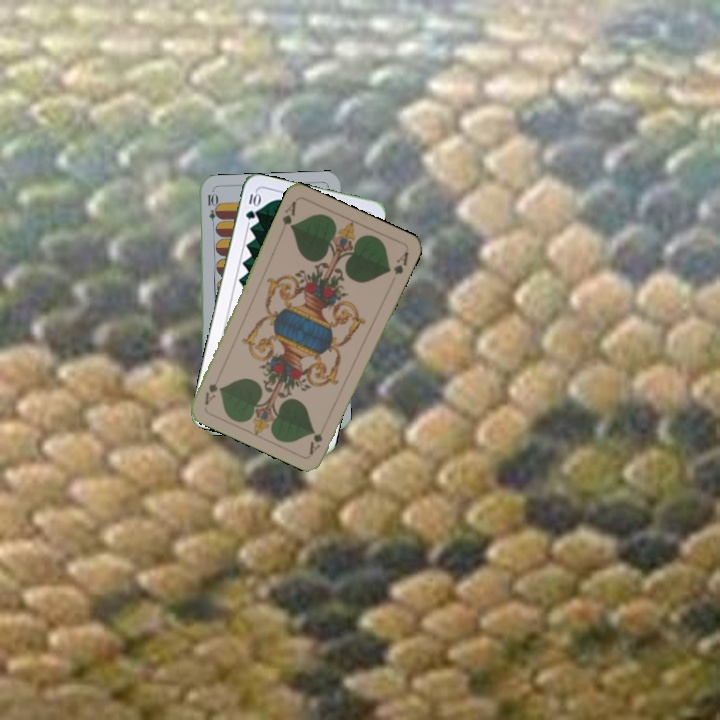E10: (203, 190, 219, 230)
G10: (242, 188, 262, 222)
GA: (305, 418, 329, 457), (278, 197, 299, 231)
